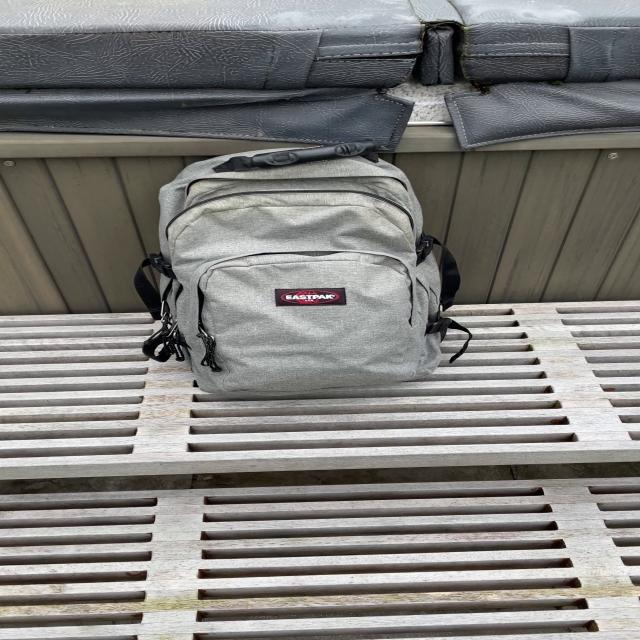backpack: (133, 144, 466, 406)
